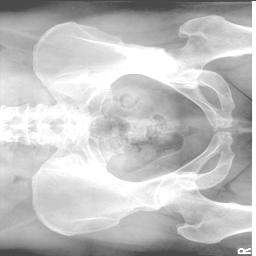cancer: (119, 42, 199, 84)
